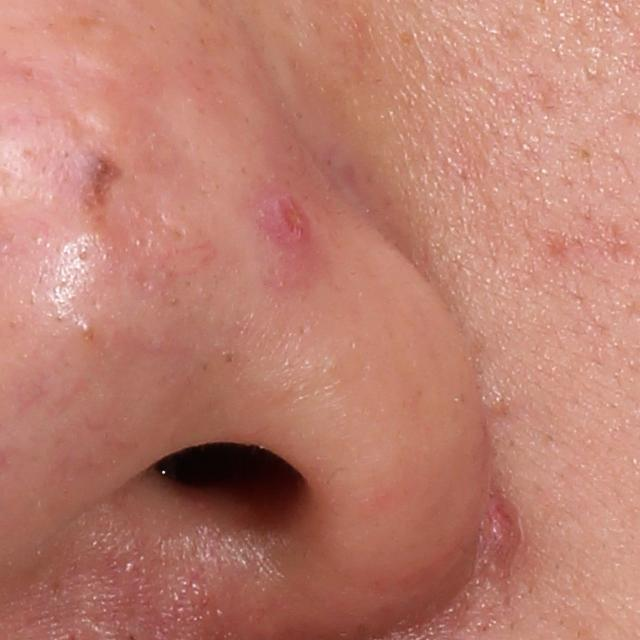nevus: (80, 150, 122, 212)
papule: (251, 186, 310, 249)
